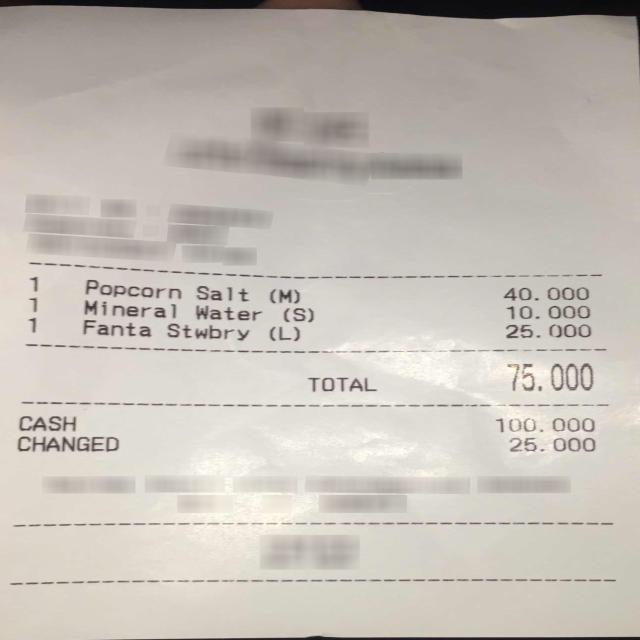text: (508, 362, 593, 391), (84, 279, 182, 300), (82, 300, 176, 318), (17, 436, 117, 451), (166, 323, 250, 340), (495, 418, 594, 432), (505, 323, 592, 338), (503, 286, 589, 300), (82, 319, 152, 336), (506, 305, 590, 319), (510, 438, 594, 452), (193, 305, 261, 321), (308, 377, 376, 391), (18, 416, 75, 432), (195, 286, 248, 302), (282, 307, 314, 323), (268, 288, 300, 303), (268, 326, 300, 341), (28, 274, 41, 292), (28, 295, 40, 313), (27, 316, 37, 333)
